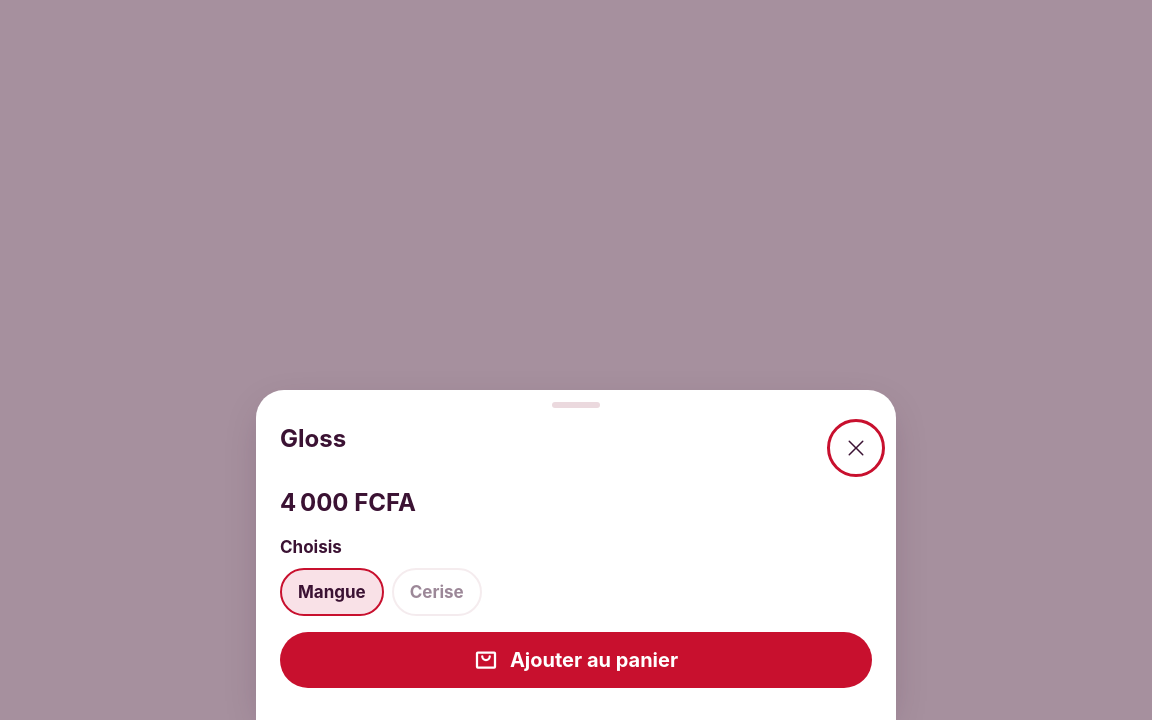
Test: BuySheet › adds the chosen shade to the cart with the live, then opens the payment
The width and height of the screenshot is (1152, 720).
Expected: the button "Cerise" is disabled, [392, 568, 482, 616]
Click the button "Mangue" at (332, 592), box [280, 568, 384, 616]
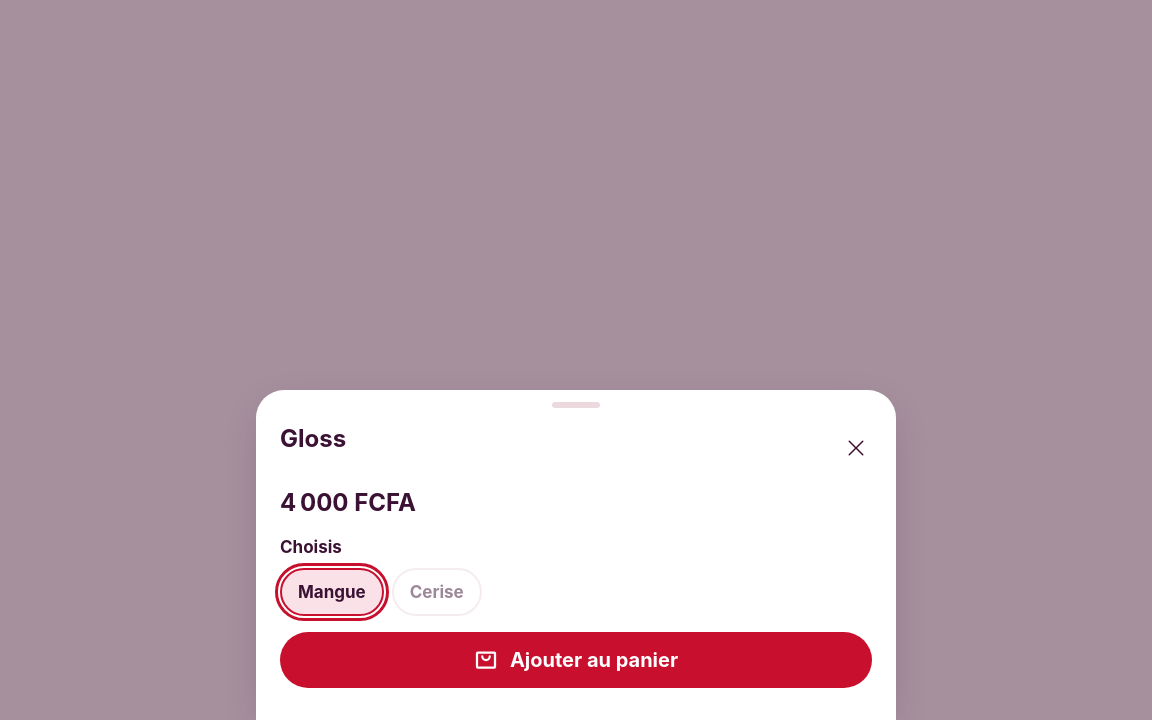
Click the button "Ajouter au panier" at (576, 660), box [280, 632, 872, 688]
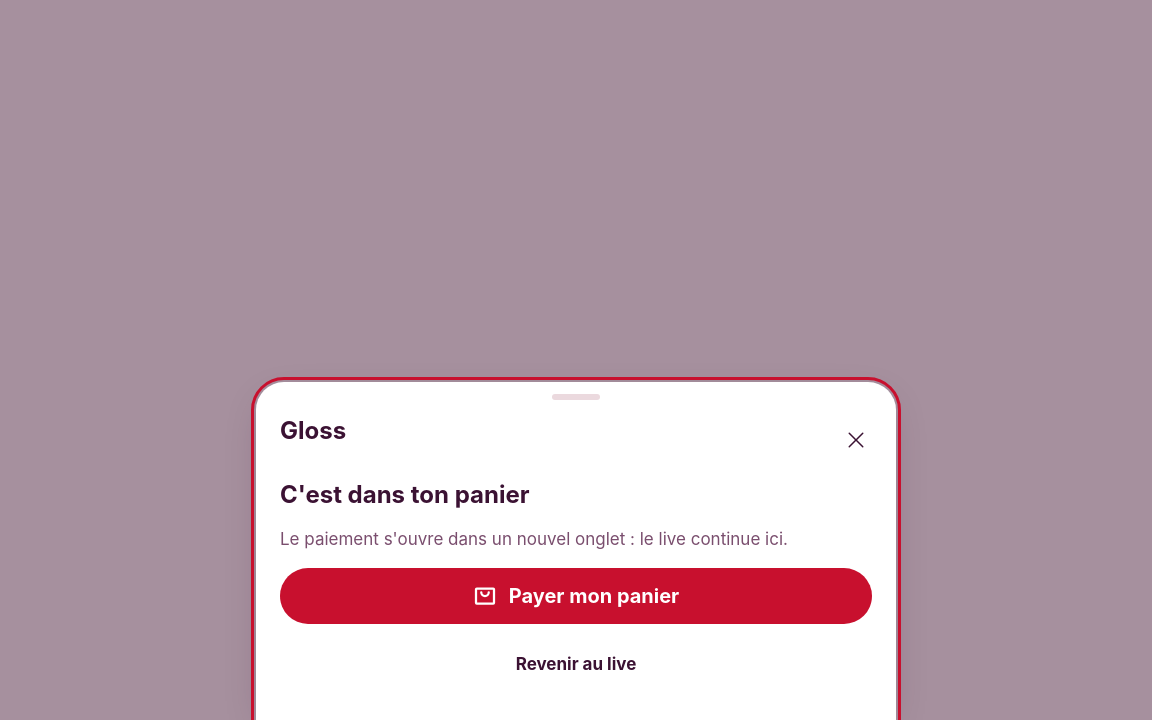
Now the text "C'est dans ton panier" is shown, box [280, 480, 530, 509]
